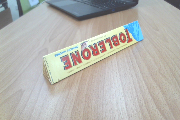Chocolate: (35, 18, 151, 87)
